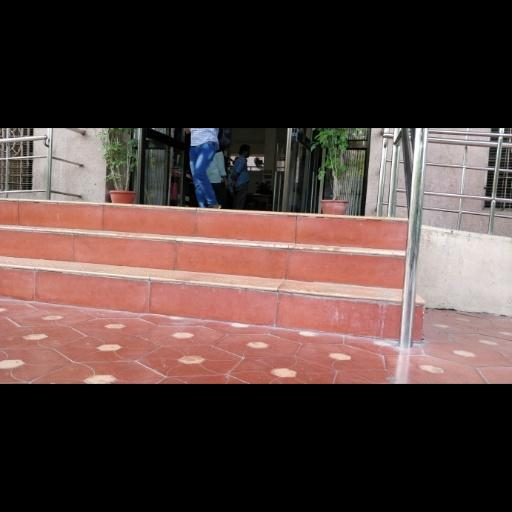stairs: (0, 199, 407, 339)
